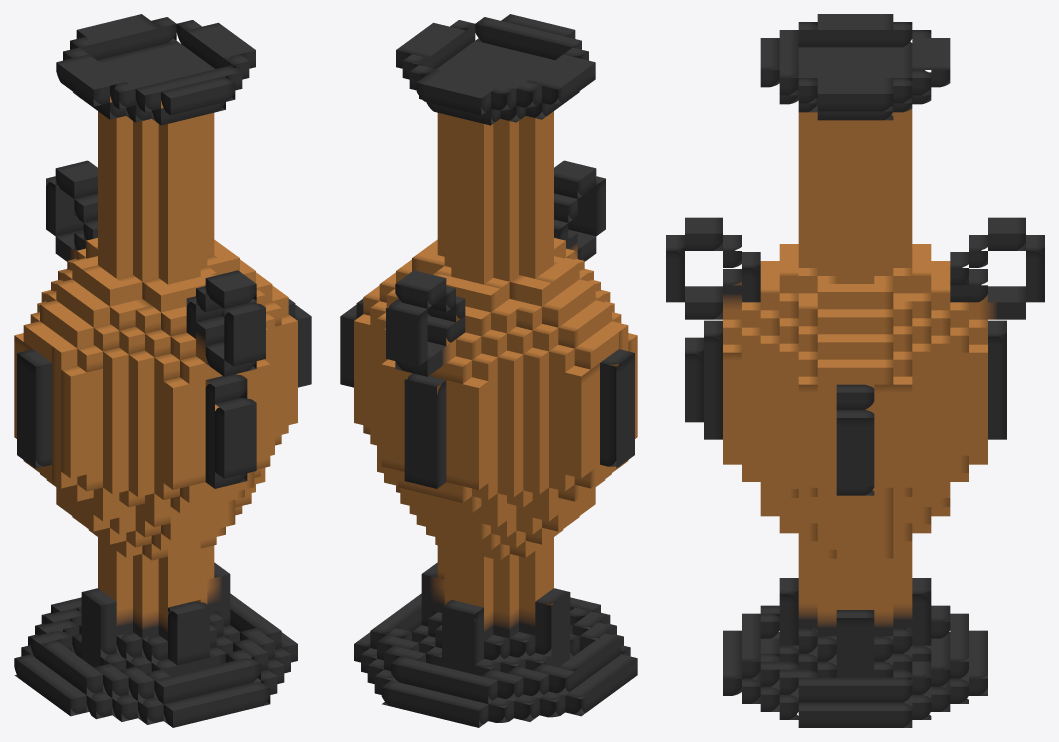
File: CavePot1.obj
The picture shows the model from 3 angles, left to right: view 1: azimuth 30°, elevation 25°; view 2: azimuth 150°, elevation 25°; view 3: azimuth 270°, elevation 25°; orthographic projection.
Parts seen in each view (by area): view 1: Model; view 2: Model; view 3: Model.
Part boxes in pixels (x1,y1,x2,y2): Model: (14, 14, 311, 727); Model: (340, 14, 637, 727); Model: (666, 14, 1044, 727).
Size of the model in its own units: 8.5 by 18 by 10.
Materials: 1 (1 with a texture image).
